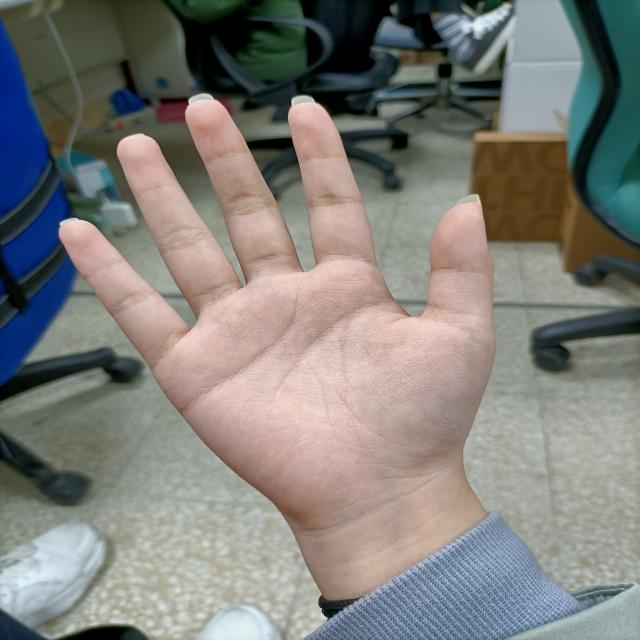no_glove: (42, 77, 513, 543)
